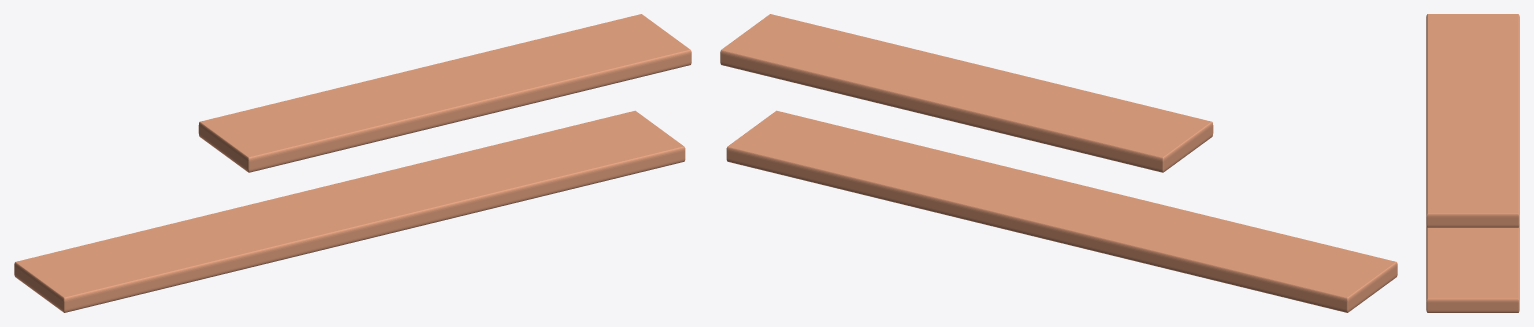
Rendered from Tv shelf1.glb.
3 renders of one model, left to right at view 1: azimuth 30°, elevation 25°; view 2: azimuth 150°, elevation 25°; view 3: azimuth 270°, elevation 25°, orthographic. The views are drawn at different scales.
Parts seen in each view (by area): view 1: Plane.001; view 2: Plane.001; view 3: Plane.001.
Boxes of the visible parts, <box> form: Plane.001: <box>14,14,691,312</box>; Plane.001: <box>720,14,1397,312</box>; Plane.001: <box>1426,14,1519,312</box>.
Bounding box in the file's own units: 2.29 × 0.3851 × 0.3177.
